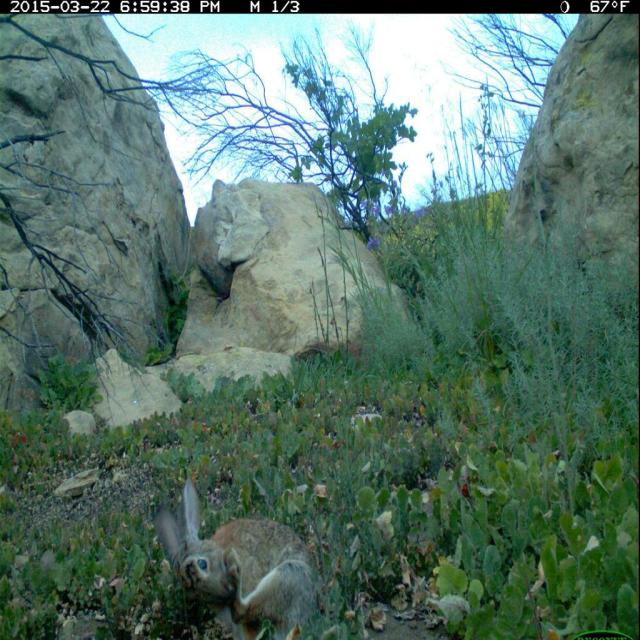rabbit: (143, 463, 329, 640)
